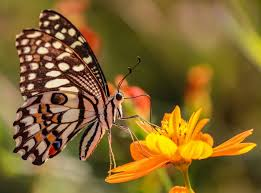butterfly: (7, 9, 131, 162)
flower: (133, 114, 254, 185)
